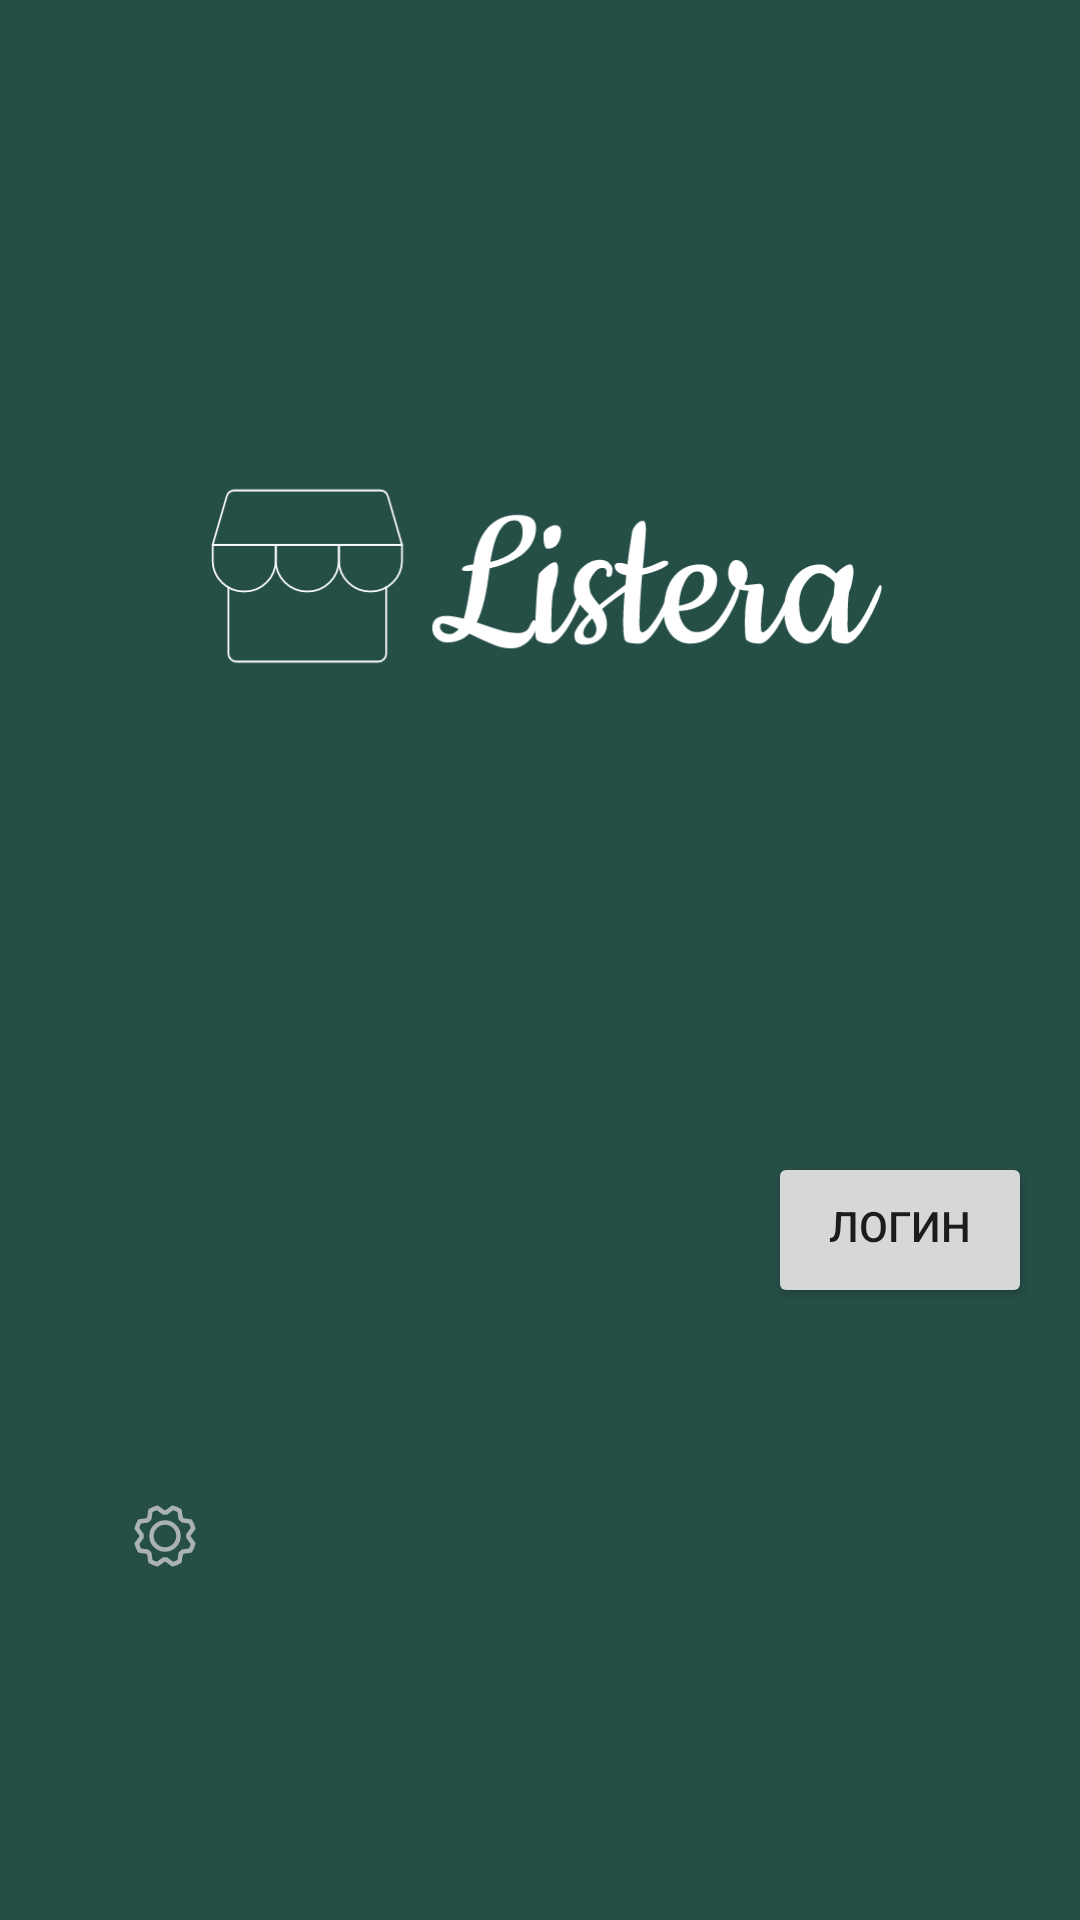

Point at icon controls on the screen. Image size 1080px x 1920px, points as (x=x, y=y).
settings: (x=165, y=1536)
